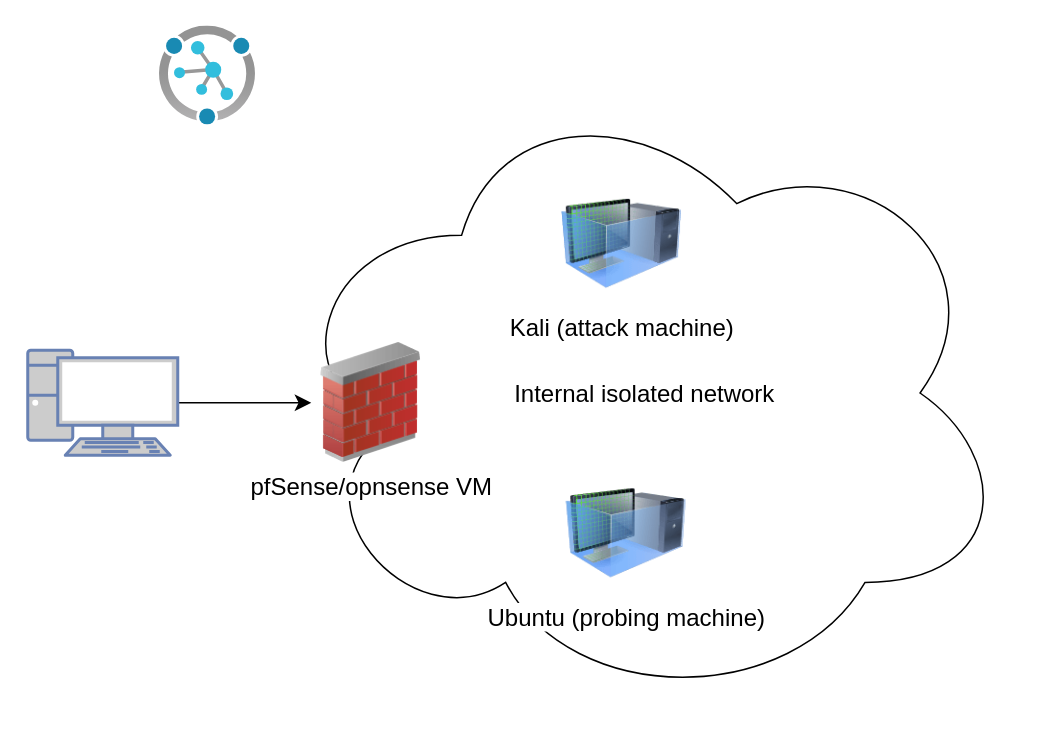
This 1038x735 diagram has some shape labels left out. Here are the shapes that lost their labels. From the top down, the box of each, then its label:
(159, 26, 255, 124): Terraform provisions the internal network
(26, 348, 178, 456): Host
